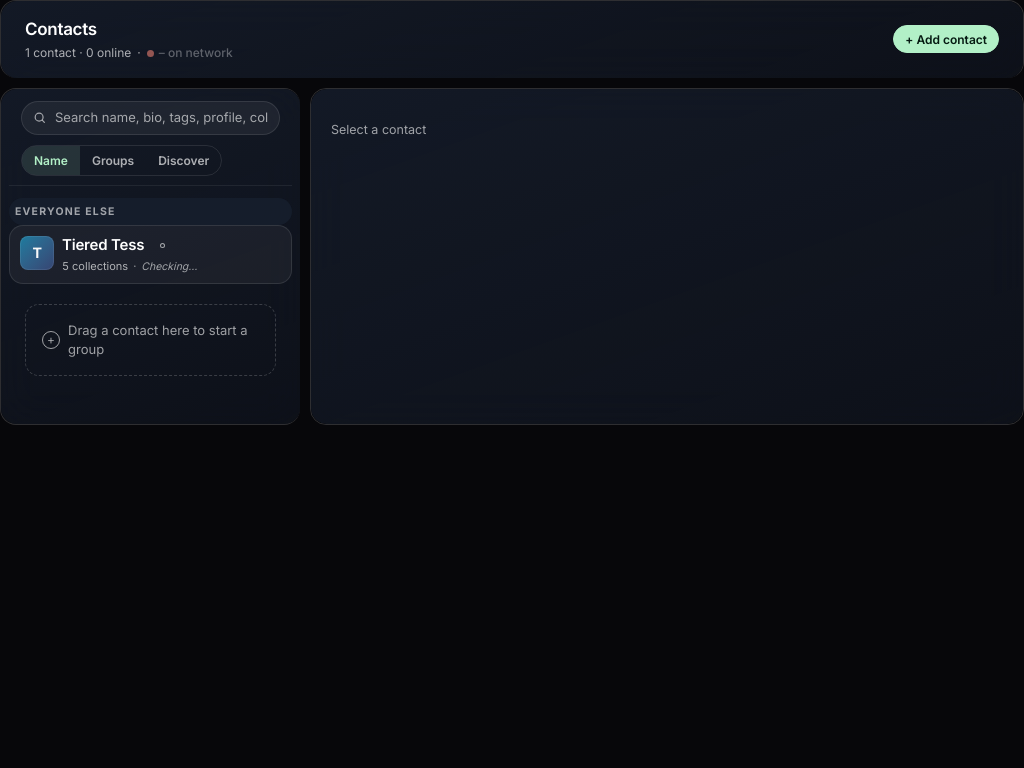
it: QURATOR-378 rev b — the contact pane in four tiers › 5 or fewer collections show all of them and no Show-more link
Step 1. Click the option with class "contact-card" → [37, 253], box [9,226,292,284]
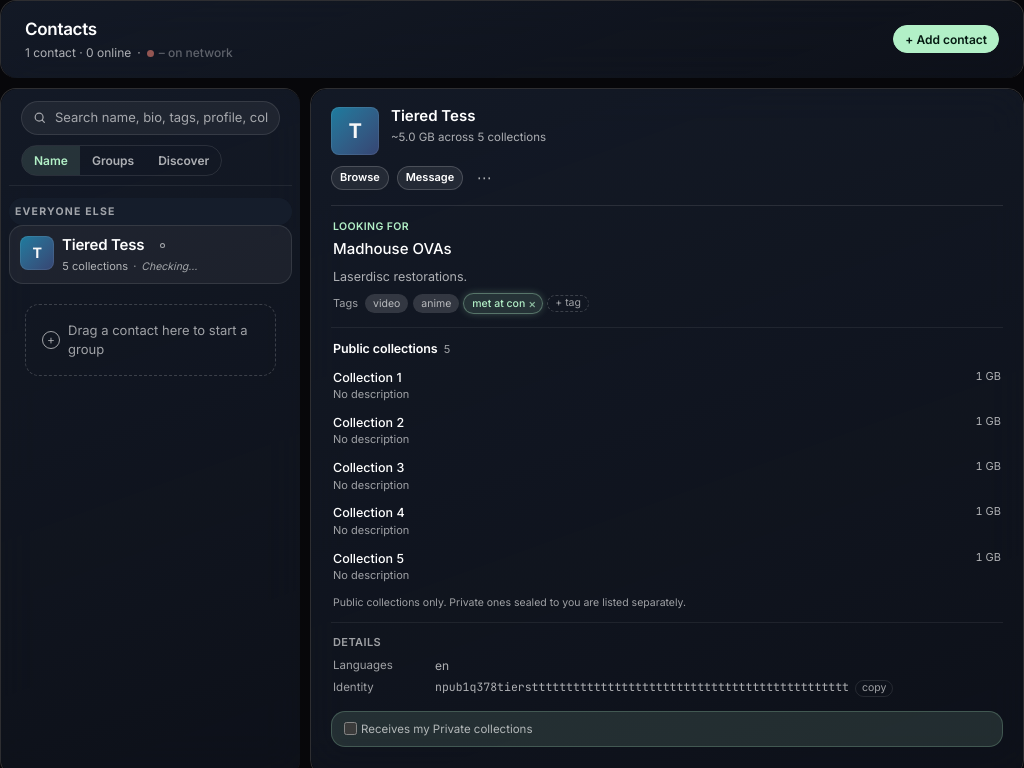
expect the element with class "about" is shown: met, box [333,220,589,313]
expect the number of elements with class "cpop-row" is 5: met, box [331,364,1003,408]; [331,409,1003,453]; [331,454,1003,498]; [331,499,1003,544]; [331,544,1003,589]
